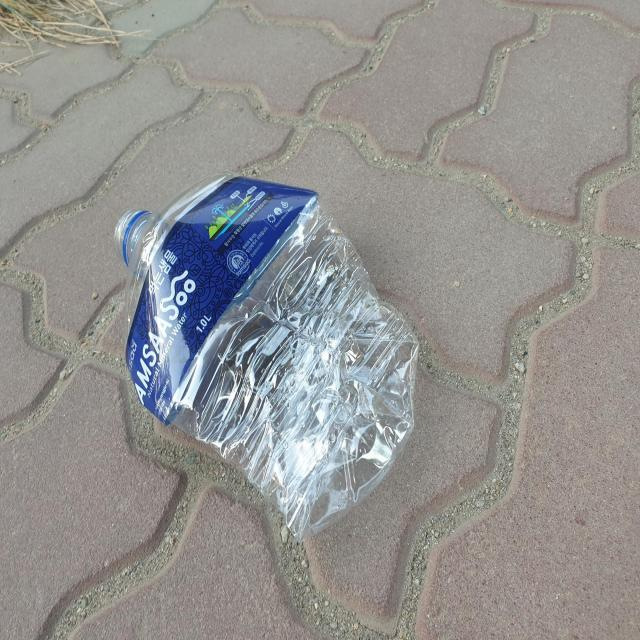plastic: (114, 173, 419, 541)
